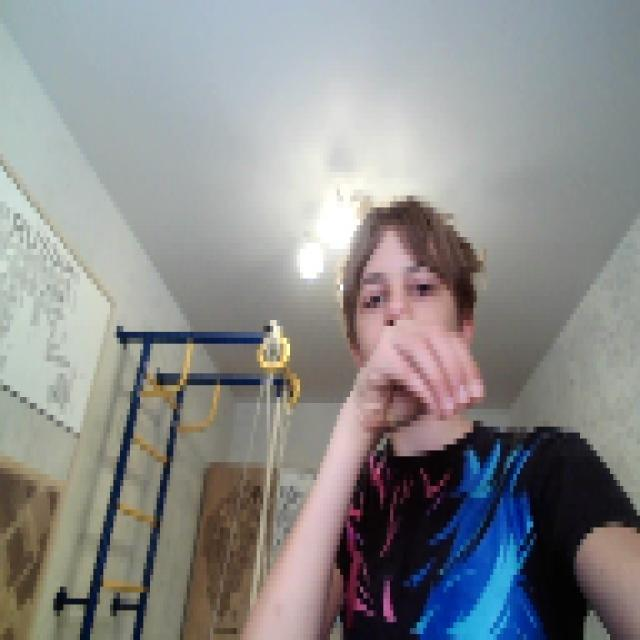left_click: (357, 308, 483, 433)
